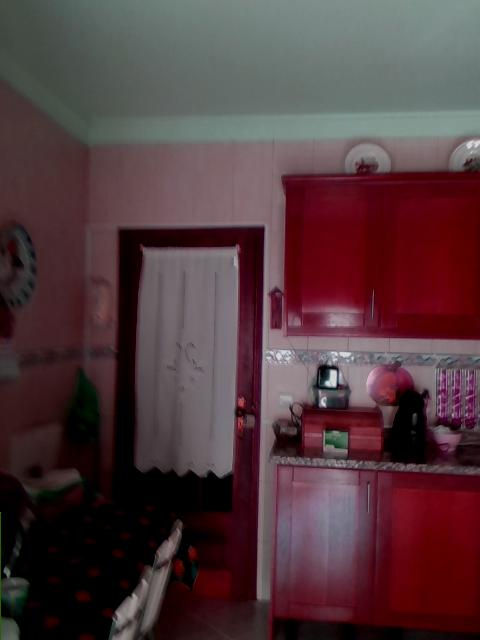closed_door: (112, 226, 265, 602)
